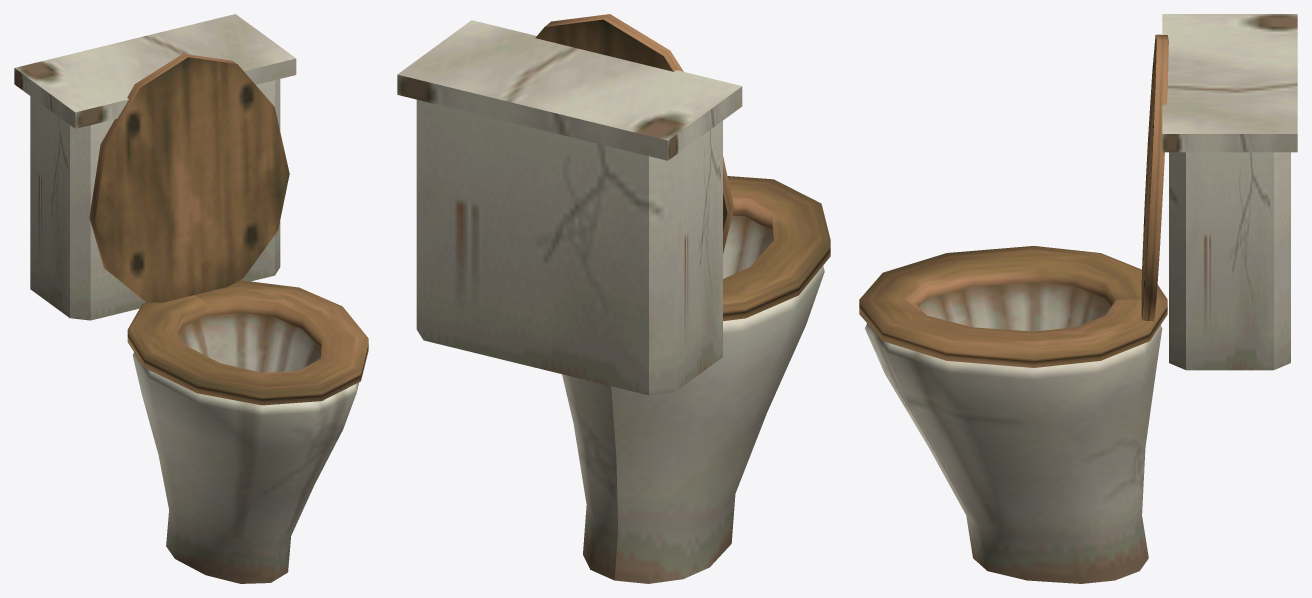
Rendered from toilet.obj.
The picture shows the model from 3 angles, left to right: view 1: azimuth 30°, elevation 25°; view 2: azimuth 150°, elevation 25°; view 3: azimuth 270°, elevation 25°; orthographic projection. The views are drawn at different scales.
Parts seen in each view (by area): view 1: toilet; view 2: toilet; view 3: toilet.
Part boxes in pixels (x1,y1,x2,y2): toilet: (14, 14, 368, 583); toilet: (397, 14, 830, 583); toilet: (859, 14, 1297, 583).
Bounding box in the file's own units: 0.42 × 0.8447 × 0.648.
Materials: 1 (1 with a texture image).
